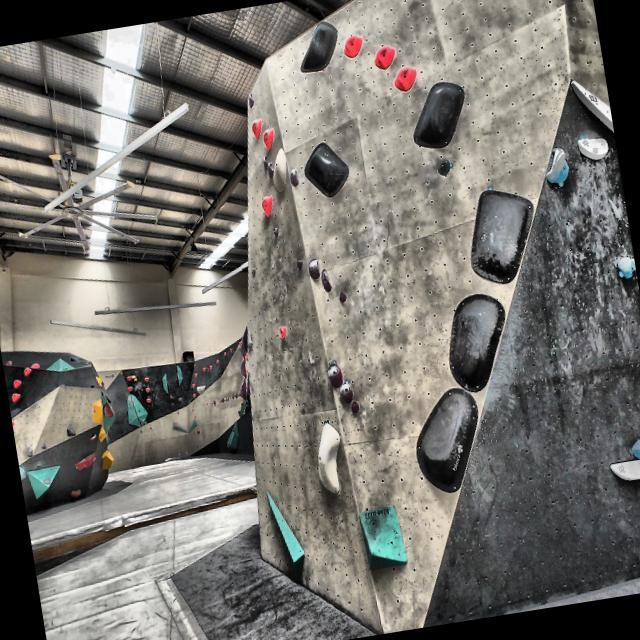Hold: (454, 183, 544, 289), (409, 386, 492, 497), (438, 288, 514, 394), (403, 76, 480, 147), (564, 70, 614, 138), (293, 17, 345, 80), (300, 140, 352, 201), (312, 420, 346, 501), (572, 126, 614, 168), (542, 144, 574, 187), (268, 146, 292, 192), (606, 454, 640, 484), (391, 62, 423, 92), (341, 32, 368, 63), (69, 447, 101, 472), (612, 254, 638, 283), (371, 44, 397, 72), (325, 357, 344, 392), (338, 380, 356, 406), (318, 267, 334, 293), (90, 399, 106, 425), (66, 484, 85, 504), (306, 257, 320, 282), (262, 128, 276, 152), (61, 420, 78, 439), (93, 424, 109, 444), (102, 448, 115, 470), (289, 166, 301, 189), (250, 121, 264, 140), (349, 398, 365, 414), (93, 372, 107, 390), (629, 437, 640, 456), (276, 326, 290, 340), (267, 160, 277, 179), (21, 367, 34, 380), (12, 376, 24, 390), (9, 392, 22, 404), (337, 290, 348, 304), (260, 154, 270, 169), (272, 222, 280, 238), (26, 444, 34, 460), (38, 442, 49, 452), (5, 359, 16, 368), (296, 258, 304, 269), (144, 384, 152, 392), (45, 474, 52, 482), (144, 376, 149, 384), (208, 364, 214, 370), (146, 398, 152, 404), (238, 341, 243, 348), (125, 375, 132, 380), (223, 351, 228, 357), (194, 372, 199, 378), (191, 382, 196, 388), (128, 387, 134, 392), (202, 366, 206, 373), (193, 364, 198, 369), (193, 393, 198, 398), (216, 359, 220, 365), (229, 348, 233, 354), (244, 356, 248, 361), (246, 367, 248, 374), (192, 409, 195, 412)
